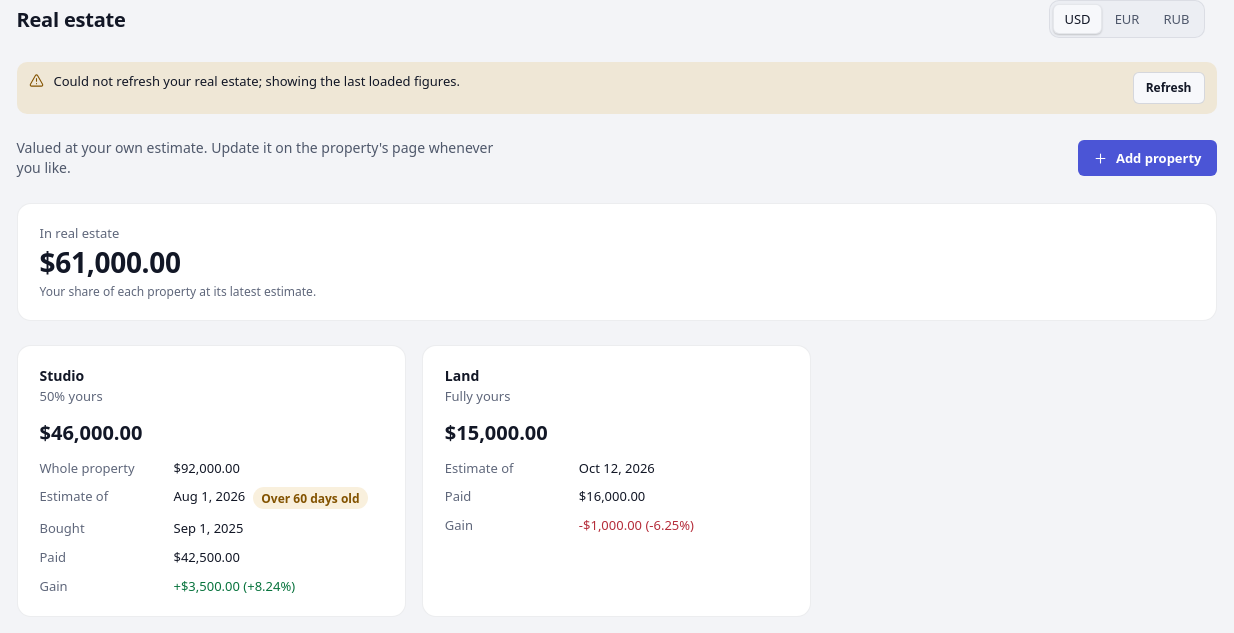
Test case: PROPERTY-LIST Real estate › says so when a refresh fails and keeps the last loaded figures
The width and height of the screenshot is (1234, 633).
Expected: the message shows "Could not refresh your real estate; showing the last loaded figures.", 54,72 -> 460,90
Expected: the element named "Total in real estate" shows "$61,000.00", 40,243 -> 181,281
Click the button "Refresh".
click(1169, 88)  # box 1133,72 -> 1204,104
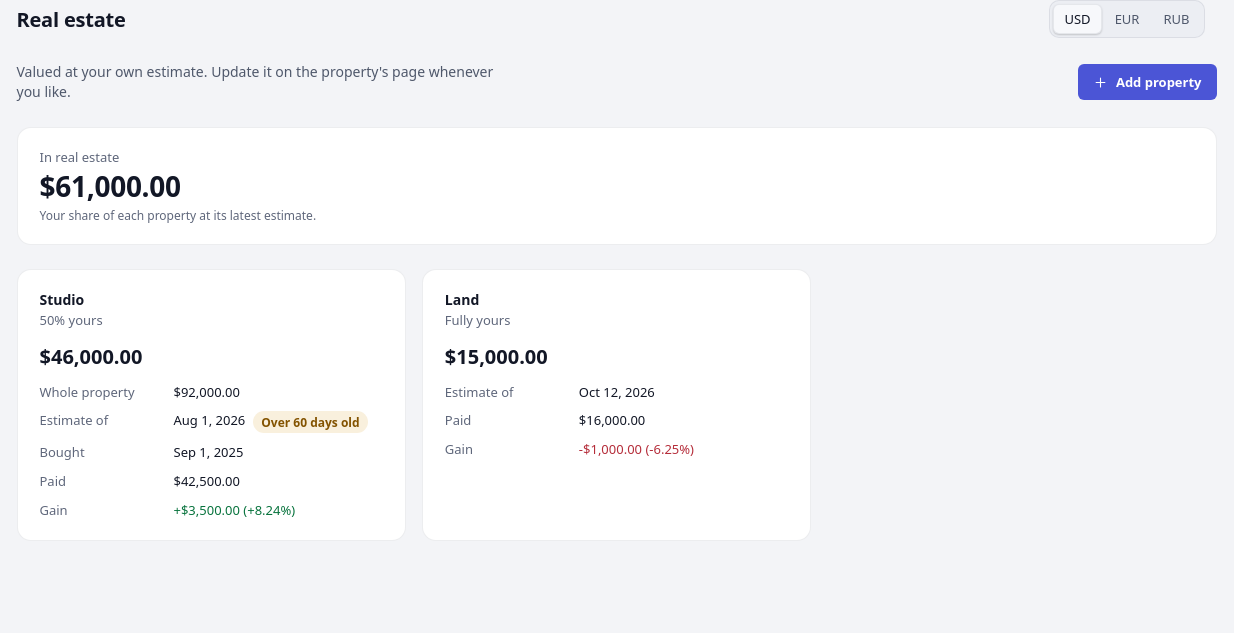
Expected: the message "Could not refresh your real estate; showing the last loaded figures. Refresh" is gone
